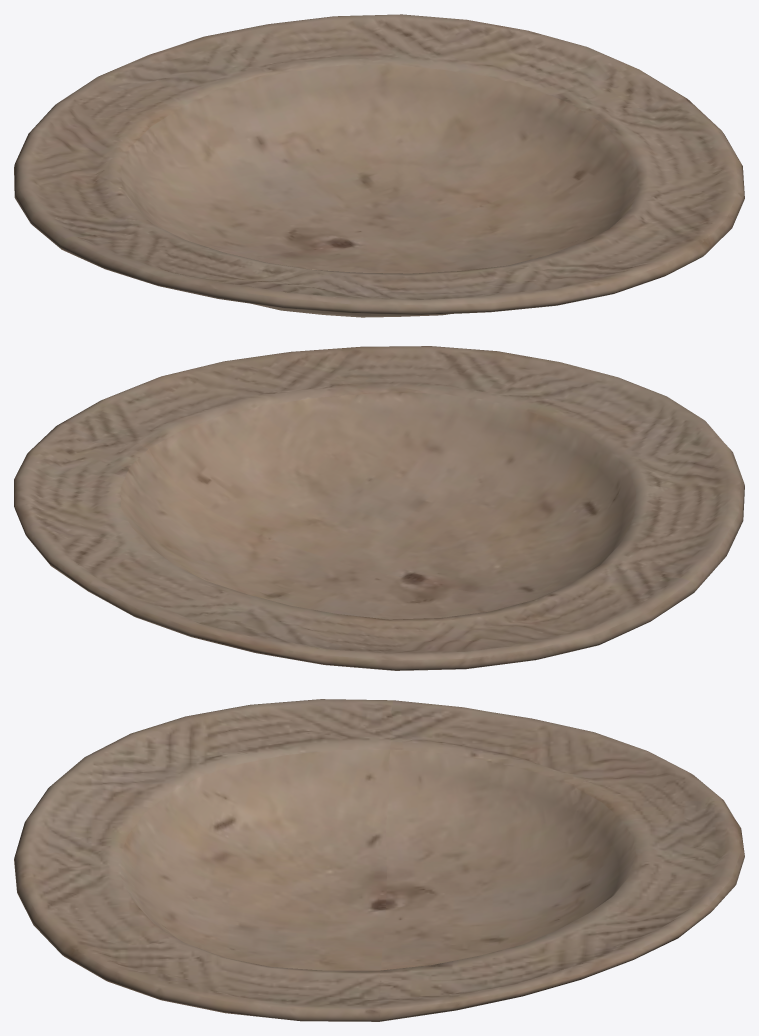
File: wood-plate.glb
3 views of the same model, one above another, from view 1: azimuth 30°, elevation 25°; view 2: azimuth 150°, elevation 25°; view 3: azimuth 270°, elevation 25° (orthographic). The views are drawn at different scales.
Parts seen in each view (by area): view 1: carved_wooden_plate; view 2: carved_wooden_plate; view 3: carved_wooden_plate.
Boxes of the visible parts, x1,y1,x2,y2 form: carved_wooden_plate: (14,14,744,317); carved_wooden_plate: (14,346,744,670); carved_wooden_plate: (14,699,744,1021).
Size of the model in its own units: 0.2718 by 0.0381 by 0.2688.
1 material, 1 textured.
